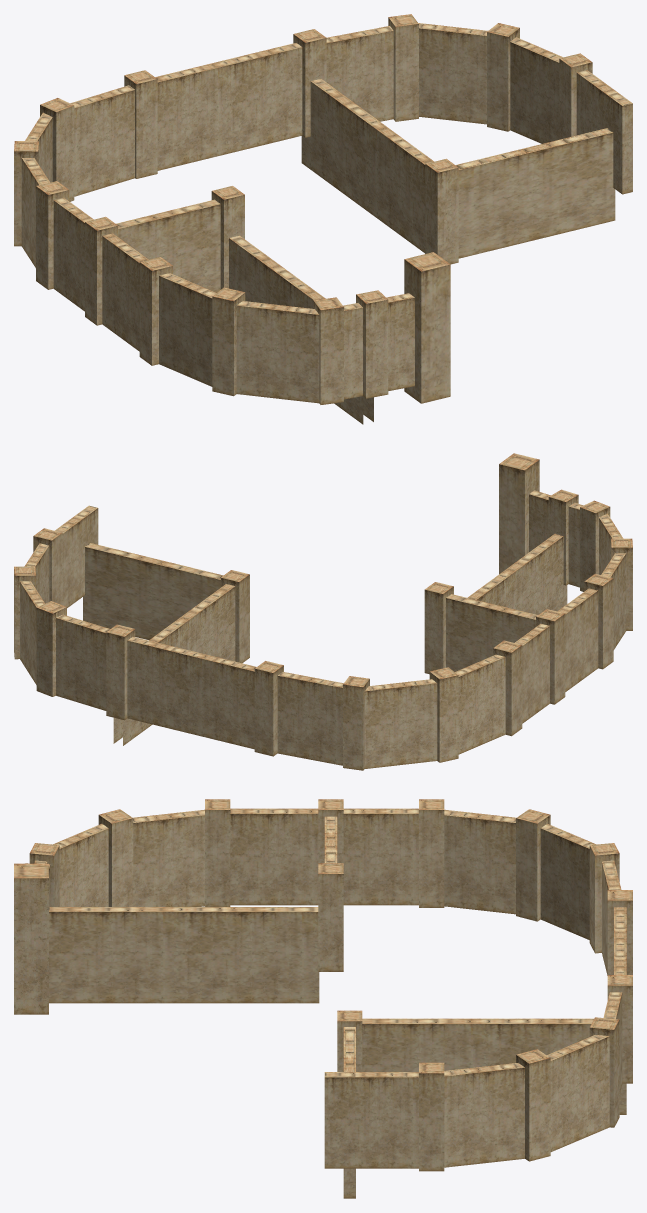
Rendered from poi_tato_farm_32x32_s01_l0.fbx.
The picture shows the model from 3 angles, top to bottom: view 1: azimuth 30°, elevation 25°; view 2: azimuth 150°, elevation 25°; view 3: azimuth 270°, elevation 25°; orthographic projection. The views are drawn at different scales.
Parts seen in each view (by area): view 1: mesh_node; view 2: mesh_node; view 3: mesh_node.
Part boxes in pixels (<box>): mesh_node: <box>14,14,632,424</box>; mesh_node: <box>14,453,632,770</box>; mesh_node: <box>14,799,632,1198</box>.
Bounding box in the file's own units: 25.75 × 6.92 × 24.59.
